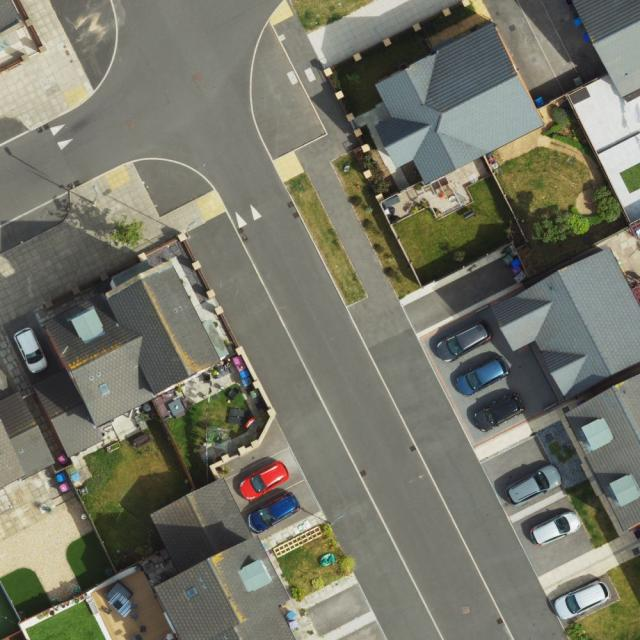roof: (32, 259, 219, 455), (374, 20, 546, 184), (151, 479, 295, 640), (493, 247, 640, 401), (571, 370, 640, 533), (575, 0, 640, 100), (0, 388, 56, 488)
skylight: (97, 381, 113, 398), (184, 585, 201, 598)
